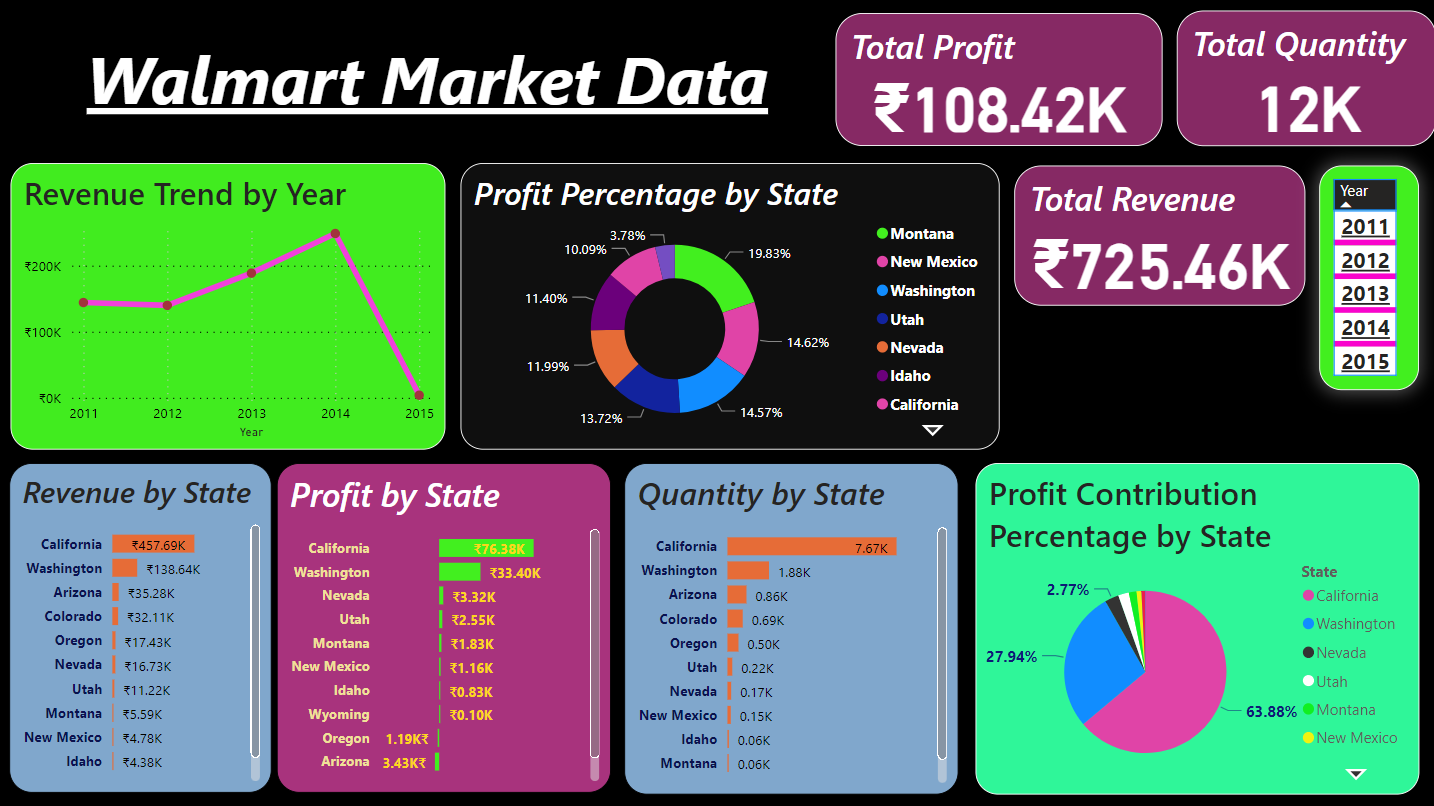

What the dashboard file says about the page in this screenshot:
{"tool":"powerbi","page":{"name":"Sales Info","canvas":[1280,720],"ordinal":1},"visuals":[{"type":"card","title":"Total Revenue","fields":{"Values":["Sum(Walmart.Sales)"]},"box":[905.2,149.5,259.6,125],"z":0},{"type":"card","title":"Total Quantity ","fields":{"Values":["Sum(Walmart.Quantity)"]},"box":[1049.2,10.9,231,121],"z":1000},{"type":"clusteredBarChart","title":"Revenue by State","fields":{"Category":["Walmart.State"],"Y":["Sum(Walmart.Sales)"]},"box":[9.5,414.5,233.8,293.6],"z":2000},{"type":"clusteredBarChart","title":"Quantity by State","fields":{"Category":["Walmart.State"],"Y":["Sum(Walmart.Quantity)"]},"box":[557.2,414.5,297.6,294.9],"z":3000},{"type":"clusteredBarChart","title":"Profit by State","fields":{"Category":["Walmart.State"],"Y":["Sum(Walmart.Profit)"]},"box":[248.7,414.5,297.6,293.6],"z":4000},{"type":"lineChart","title":"Revenue Trend by Year","fields":{"Category":["Walmart.Ship Date.Variation.Date Hierarchy.Year"],"Y":["Sum(Walmart.Sales)"]},"box":[10.9,146.8,387.3,255.5],"z":5000},{"type":"card","title":"Total Profit","fields":{"Values":["Sum(Walmart.Profit)"]},"box":[746.1,13.6,290.8,118.2],"z":6000},{"type":"tableEx","fields":{"Values":["Walmart.Ship Date.Variation.Date Hierarchy.Year"]},"box":[1176,149.6,89.2,200.3],"z":7000},{"type":"donutChart","title":"Profit Percentage by State","fields":{"Y":["Walmart.profit percentage"],"Category":["Walmart.State"]},"box":[411.8,146.8,479.8,255.5],"z":8000},{"type":"textbox","box":[25.8,27.2,680.9,97.9],"z":9000},{"type":"pieChart","fields":{"Category":["Walmart.State"],"Y":["Walmart.Profit Contribution Percentage"]},"box":[869.8,414.5,395.5,294.9],"z":10000}]}

Visuals, with their boxes in screenshot pixels (x1, y1, x2, y2), scaled from the page's 1280x720 canvas onto the 1434x806 screenshot:
"Total Revenue" card: x1=1014, y1=167, x2=1305, y2=307
"Total Quantity " card: x1=1175, y1=12, x2=1433, y2=148
"Revenue by State" clusteredBarChart: x1=11, y1=464, x2=273, y2=793
"Quantity by State" clusteredBarChart: x1=624, y1=464, x2=958, y2=794
"Profit by State" clusteredBarChart: x1=279, y1=464, x2=612, y2=793
"Revenue Trend by Year" lineChart: x1=12, y1=164, x2=446, y2=450
"Total Profit" card: x1=836, y1=15, x2=1162, y2=148
tableEx - Walmart.Ship Date.Variation.Date Hierarchy.Year: x1=1317, y1=167, x2=1417, y2=392
"Profit Percentage by State" donutChart: x1=461, y1=164, x2=999, y2=450
textbox: x1=29, y1=30, x2=792, y2=140
pieChart - Walmart.State x Walmart.Profit Contribution Percentage: x1=974, y1=464, x2=1418, y2=794
